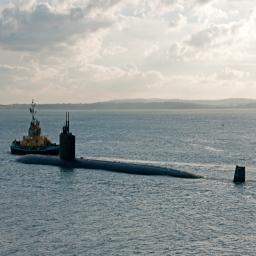submarine: (18, 110, 252, 185)
